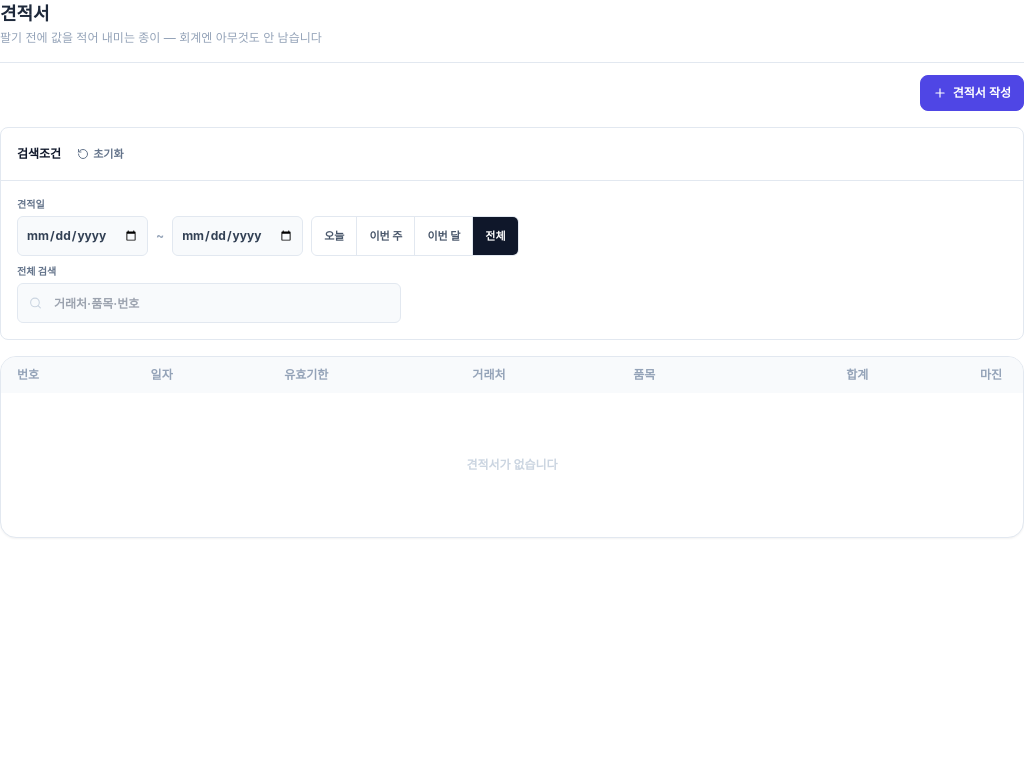
전송 전 필수 입력 거절은 초안을 수정할 수 있고 실제 저장 요청이나 실패 목록을 만들지 않는다
Click the button "견적서 작성": (972, 93) [920,75,1023,111]
(page scrolled)
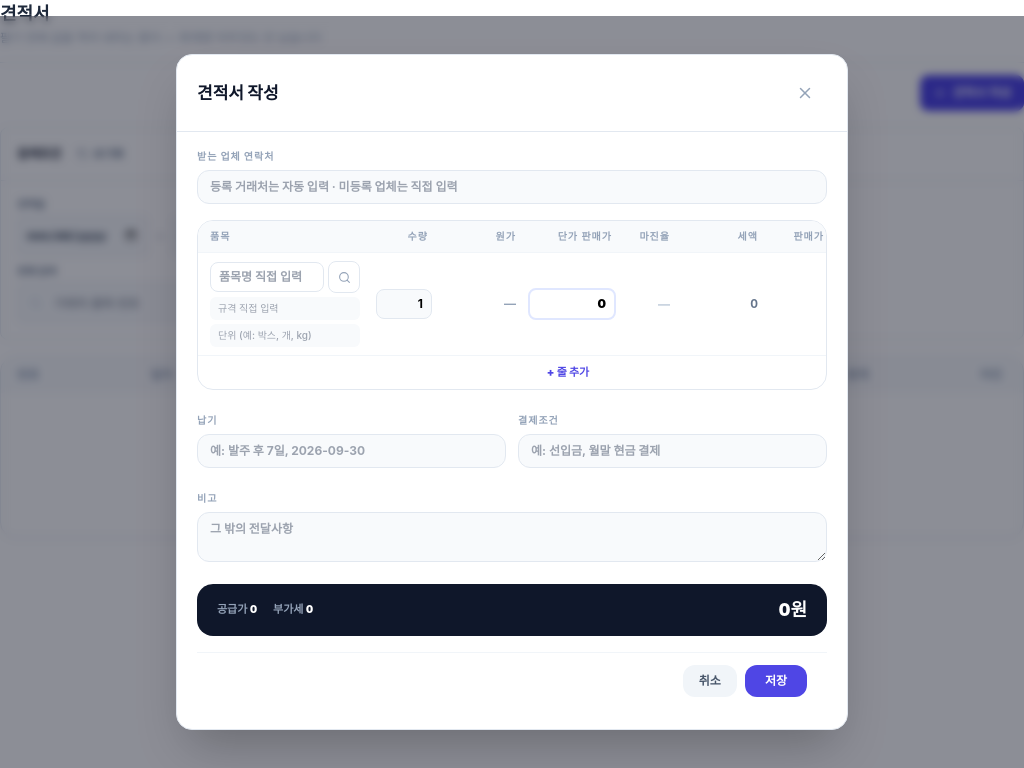
Click the button "저장": (776, 681) [745,665,807,697]
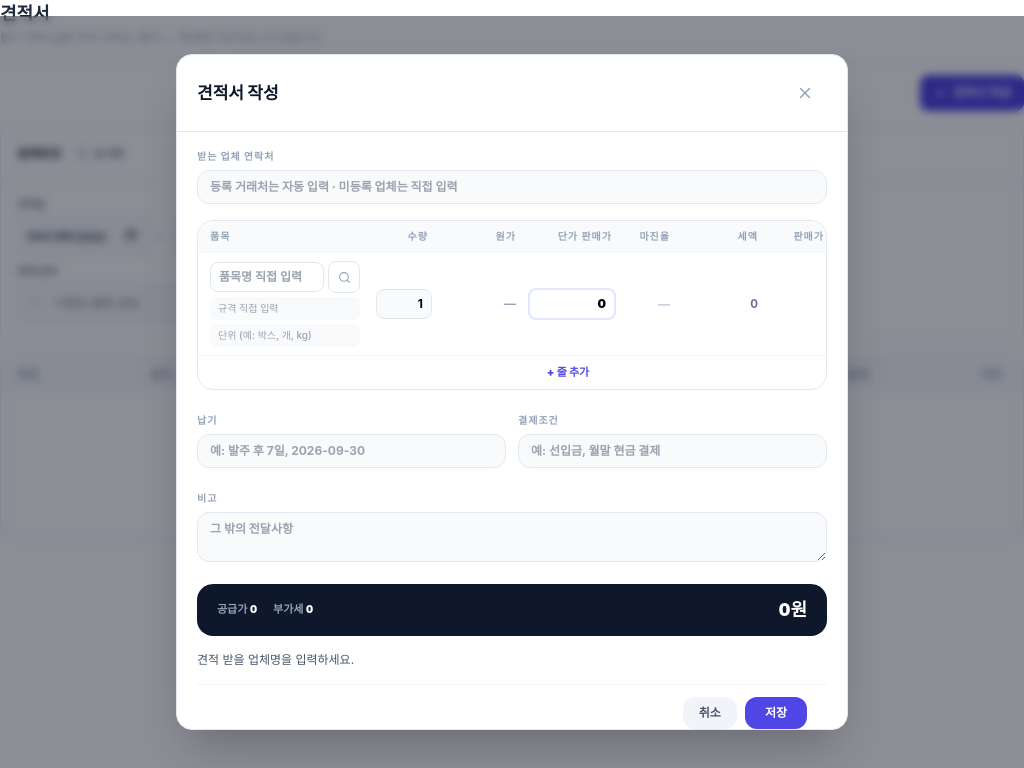
Result: the field with placeholder "품목명 직접 입력" is enabled at [210,262,324,292]
Result: the message reads "견적 받을 업체명을 입력하세요." at [197,652,354,667]
